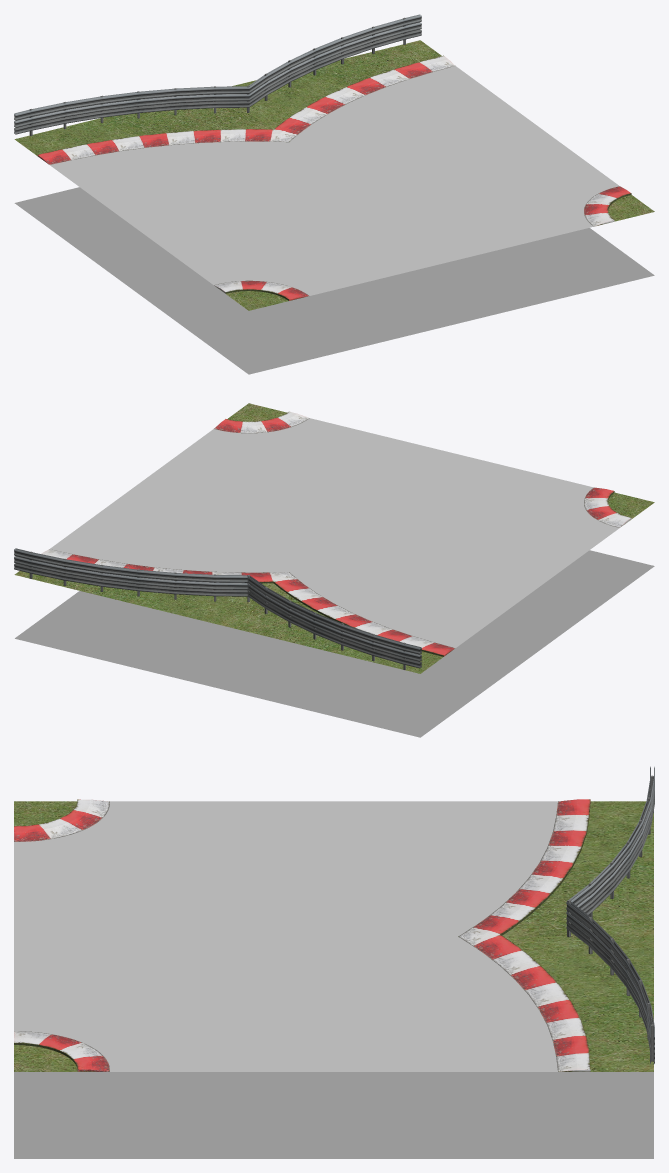
Rendered from Track_Split_B.fbx.
3 views of the same model, one above another, from view 1: azimuth 30°, elevation 25°; view 2: azimuth 150°, elevation 25°; view 3: azimuth 270°, elevation 25° (orthographic). The views are drawn at different scales.
Visible parts, largest first — view 1: Road, Snap_Plane_Invisible, Grass, Rail, Curb_C, Curb_B, Curb_A; view 2: Road, Snap_Plane_Invisible, Rail, Grass, Curb_C, Curb_A, Curb_B; view 3: Road, Snap_Plane_Invisible, Grass, Curb_C, Rail, Curb_B, Curb_A.
Part boxes in pixels (x1,y1,x2,y2): Road: (50, 66, 619, 295); Snap_Plane_Invisible: (14, 187, 654, 374); Grass: (14, 40, 654, 310); Rail: (14, 14, 421, 135); Curb_C: (37, 55, 455, 164); Curb_B: (214, 280, 308, 300); Curb_A: (584, 186, 631, 226); Road: (50, 418, 619, 647); Snap_Plane_Invisible: (15, 550, 654, 737); Rail: (14, 548, 421, 669); Grass: (14, 403, 654, 673); Curb_C: (41, 549, 455, 656); Curb_A: (214, 411, 309, 433); Curb_B: (584, 487, 631, 527); Road: (14, 801, 557, 1071); Snap_Plane_Invisible: (14, 1072, 653, 1158); Grass: (14, 801, 653, 1071); Curb_C: (458, 799, 590, 1071); Rail: (566, 766, 654, 1063); Curb_B: (14, 799, 109, 841); Curb_A: (14, 1031, 109, 1071).
Bounding box in the file's own units: 20 × 4.24 × 20.03.
